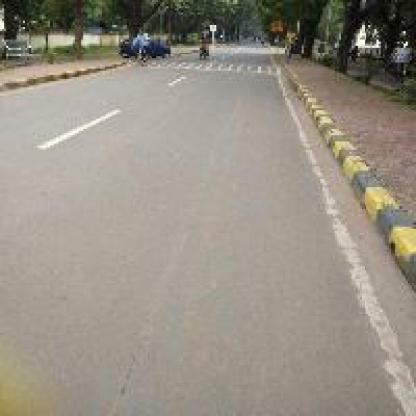Speed Bump: (152, 58, 281, 77)
